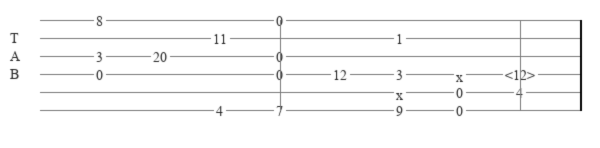0: (96, 67, 107, 81), (276, 49, 287, 63), (276, 67, 287, 81), (276, 13, 287, 27), (456, 103, 467, 117), (456, 85, 467, 99)
1: (396, 31, 407, 45)
11: (213, 31, 231, 45)
12: (333, 67, 351, 81)
20: (153, 49, 171, 63)
3: (96, 49, 107, 63), (396, 67, 407, 81)
4: (216, 103, 227, 117), (516, 85, 527, 99)
7: (276, 103, 287, 117)
8: (96, 13, 107, 27)
9: (396, 103, 407, 117)
harmonic: (505, 67, 539, 81)
x: (396, 87, 407, 98), (456, 69, 467, 80)
